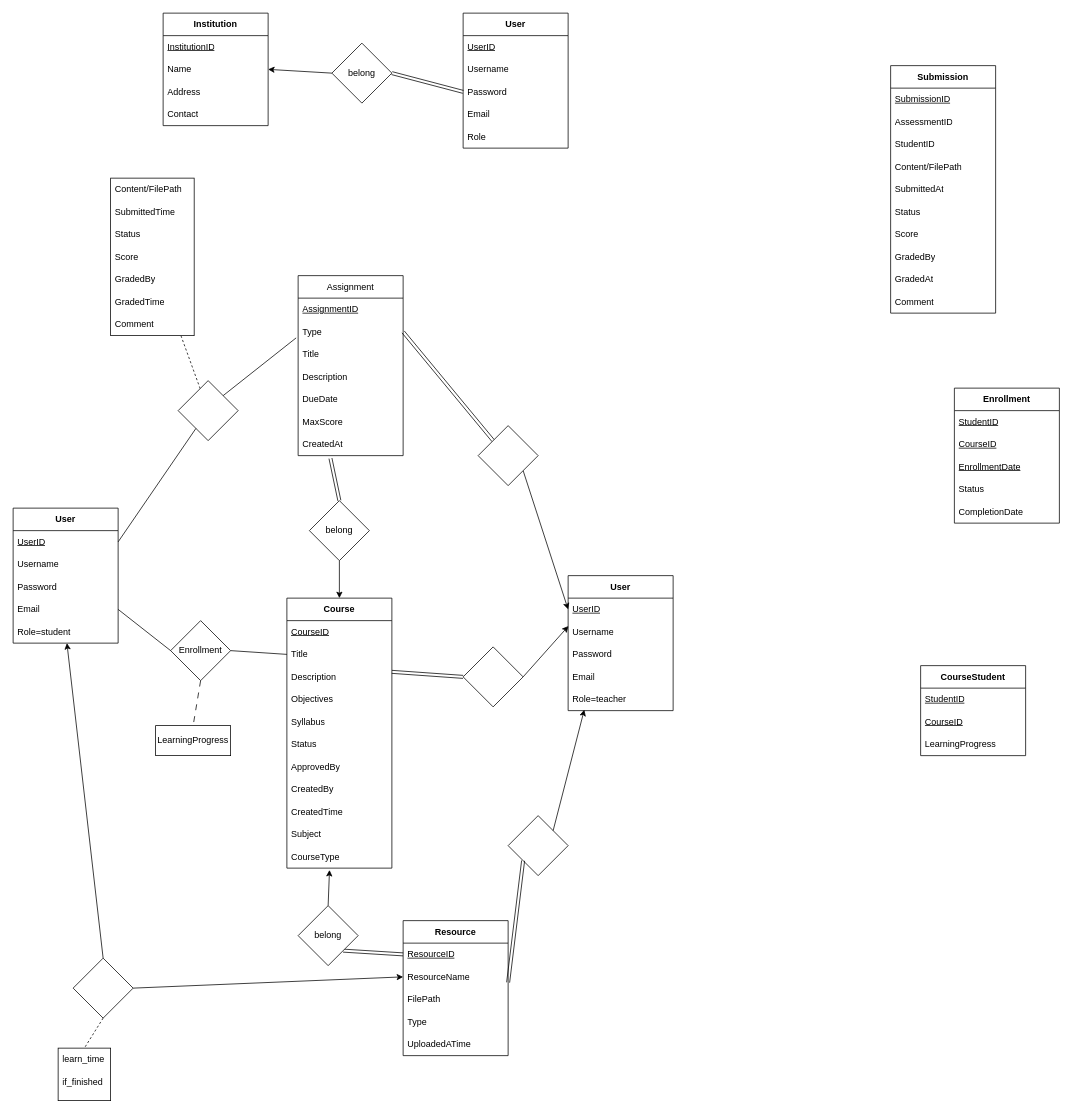
Image size: 1073x1114. Some labels were removed from this diagram. The shapes that lost their labels are listed below. From the top down, each one's centre as x and y in pixels, then its label:
point (207, 410): submit
point (507, 455): assign
point (492, 676): release
point (537, 845): upload
point (102, 987): learn
